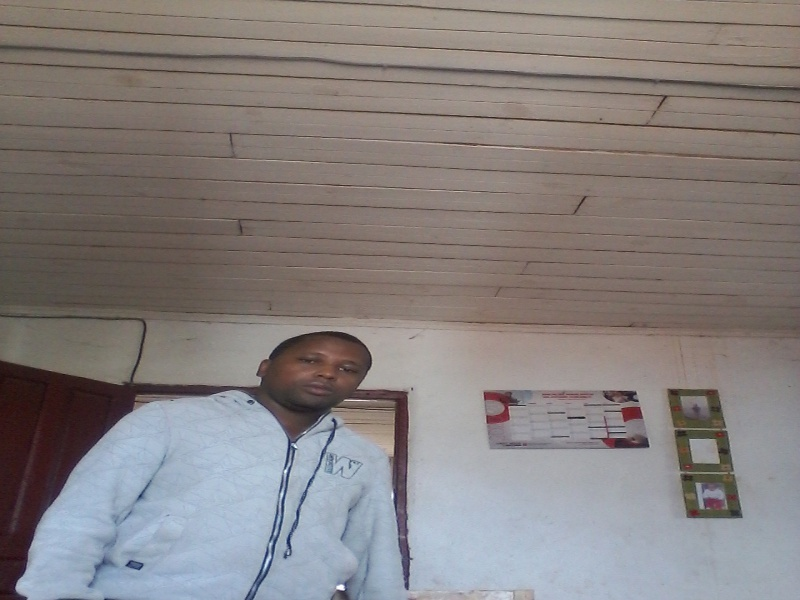TsisyArotava: (254, 315, 384, 416)
